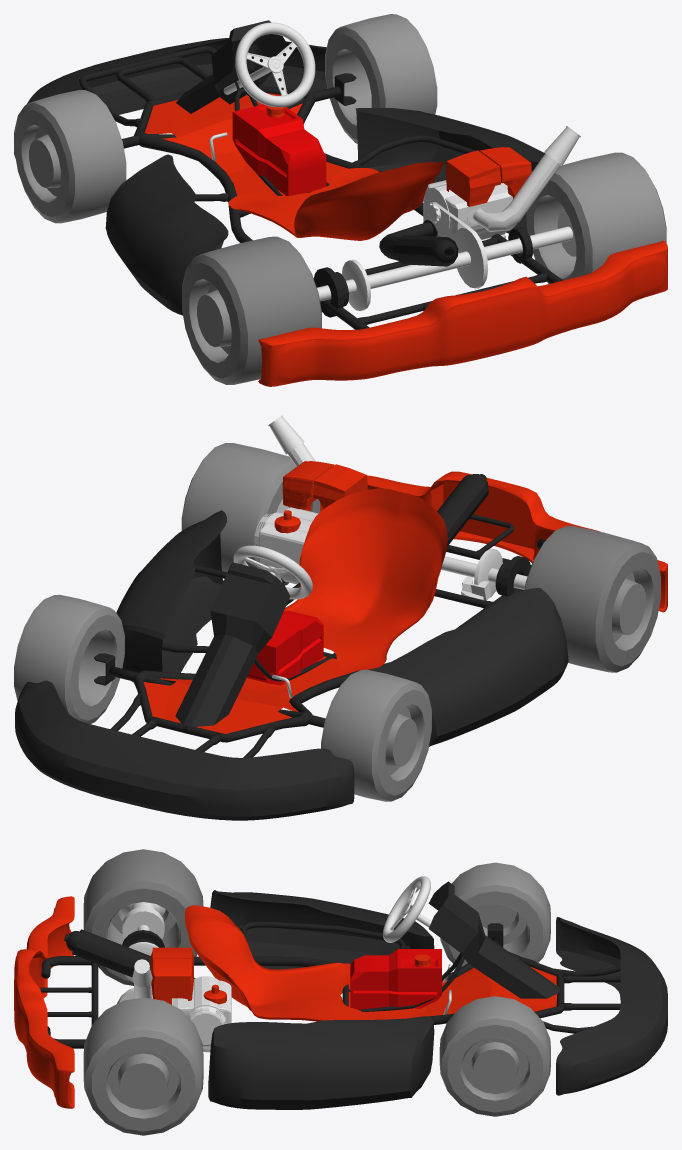
Rendered from kart.glb.
The picture shows the model from 3 angles, top to bottom: view 1: azimuth 30°, elevation 25°; view 2: azimuth 150°, elevation 25°; view 3: azimuth 270°, elevation 25°; orthographic projection. The views are drawn at different scales.
Parts seen in each view (by area): view 1: Kart, 2, 0, 3, 1, SteerButton; view 2: Kart, 2, 0, 1, 3, SteerButton; view 3: Kart, 3, 1, 2, 0, SteerButton.
Boxes of the visible parts, left/top/right/bottom form: Kart: left=14, top=20, right=667, bottom=386; 2: left=182, top=209, right=576, bottom=384; 0: left=14, top=90, right=126, bottom=223; 3: left=526, top=152, right=666, bottom=283; 1: left=325, top=14, right=437, bottom=143; SteerButton: left=223, top=22, right=315, bottom=107; Kart: left=15, top=415, right=667, bottom=820; 2: left=276, top=499, right=660, bottom=672; 0: left=321, top=669, right=431, bottom=801; 1: left=14, top=594, right=124, bottom=723; 3: left=181, top=443, right=320, bottom=585; SteerButton: left=233, top=545, right=312, bottom=599; Kart: left=14, top=881, right=667, bottom=1109; 3: left=83, top=997, right=203, bottom=1135; 1: left=439, top=996, right=550, bottom=1116; 2: left=83, top=849, right=203, bottom=1003; 0: left=440, top=862, right=550, bottom=967; SteerButton: left=382, top=876, right=431, bottom=942.
Bounding box in the file's own units: 7.95 × 3.38 × 11.94.
